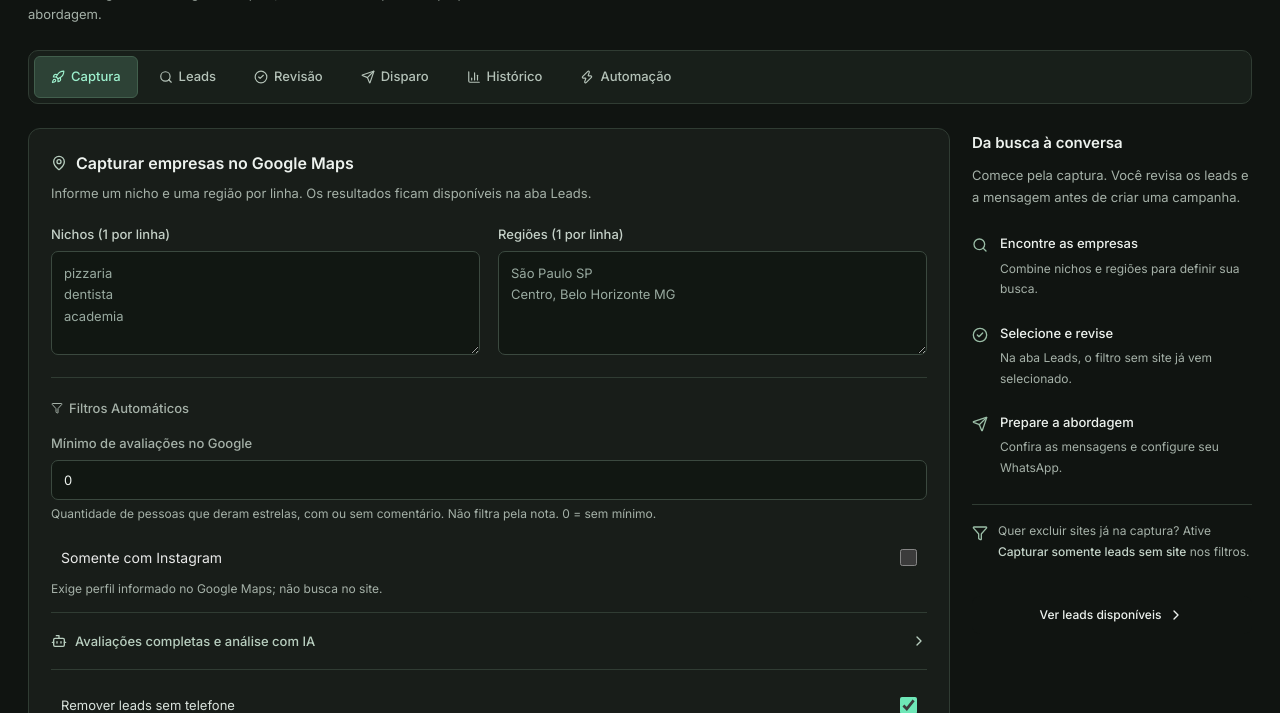
Scenario: progresso e ações das automações na Prospecção Sites › oferece paused com 13 capturados como Retomar
This screenshot has width=1280, height=713.
Click the button "Automação" at coordinates (626, 77), box [564,56,688,98]
(page scrolled)
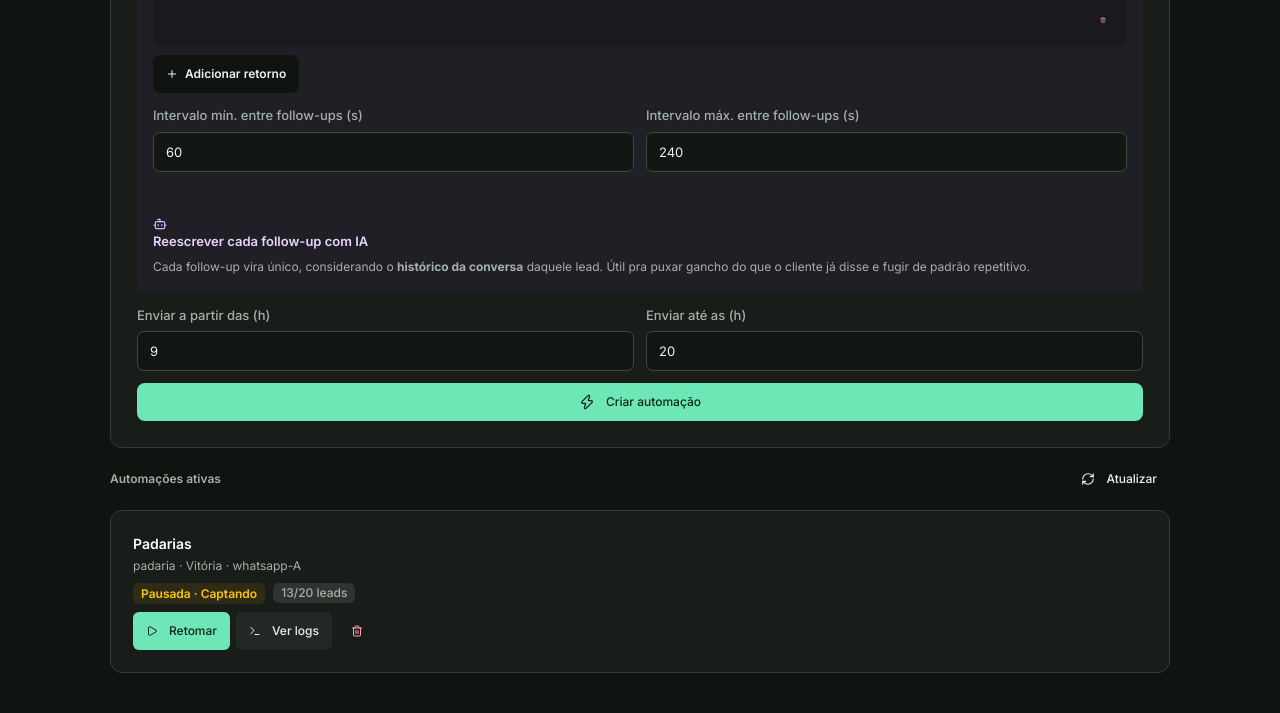
Result: the text "Padarias" is shown at [133,535,192,552]
Result: the button "Retomar" is enabled at [133,612,230,650]
